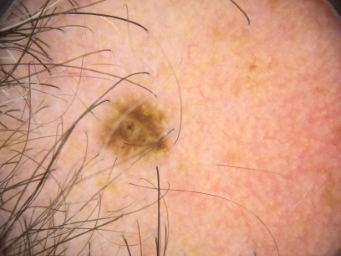melanoma: (102, 108, 167, 155)
